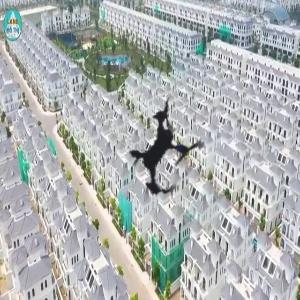drone: (93, 79, 240, 226)
